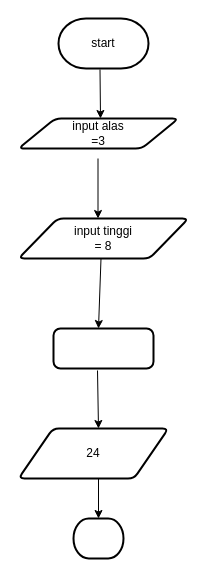
Some shapes in this 206 by 576 pixel diagram are drawn without their labels. The box of each missing label's shape, as (x1, y1, x2, y2) in pixels:
end: (72, 517, 124, 559)
Luas <- (3 x 8): (52, 327, 154, 369)
